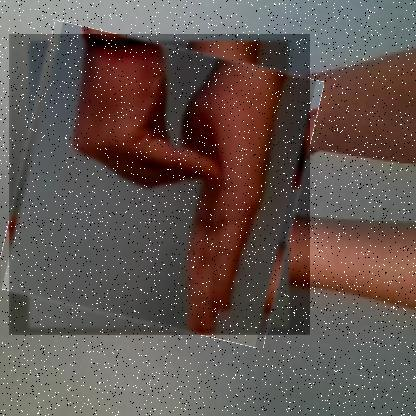Z: (8, 34, 310, 336)
